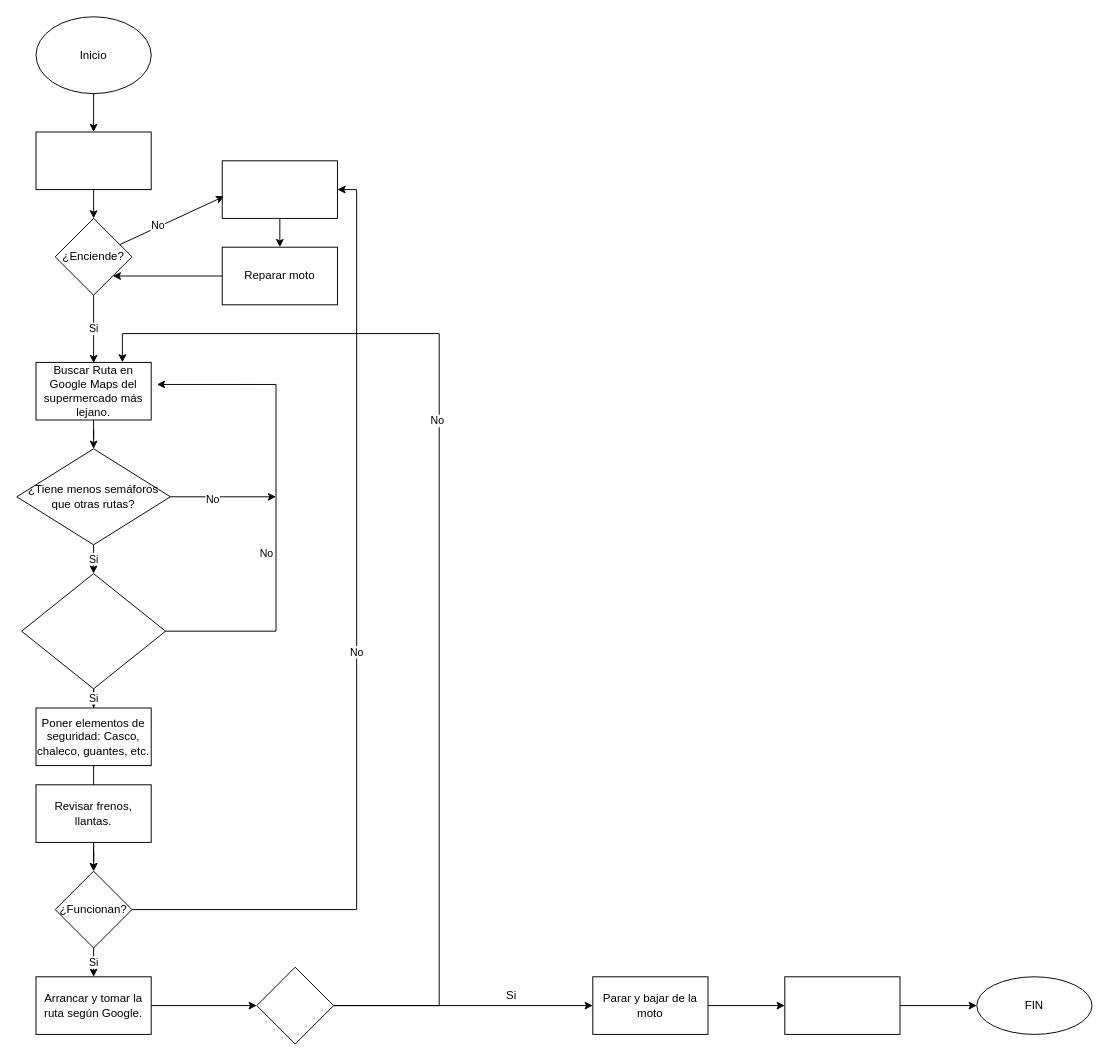
The diagram is 1109 pixels wide and 1061 high, and some of its shapes have lost their labels. The centre of each missing label's shape, as x and y in pixels:
"Buscar Moto al garaje." belongs at point (93, 160).
"Entrar supermercado." belongs at point (842, 1005).
"Ir donde el mecánico." belongs at point (279, 189).
"¿Es la ruta con menos tráfico?" belongs at point (93, 631).
"¿He llegado al destino?" belongs at point (295, 1005).
